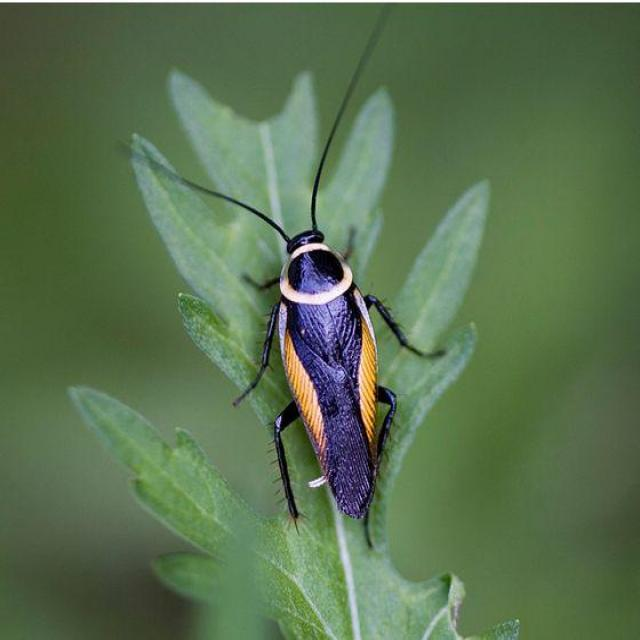Miridae-Adult-: (131, 16, 480, 558)
